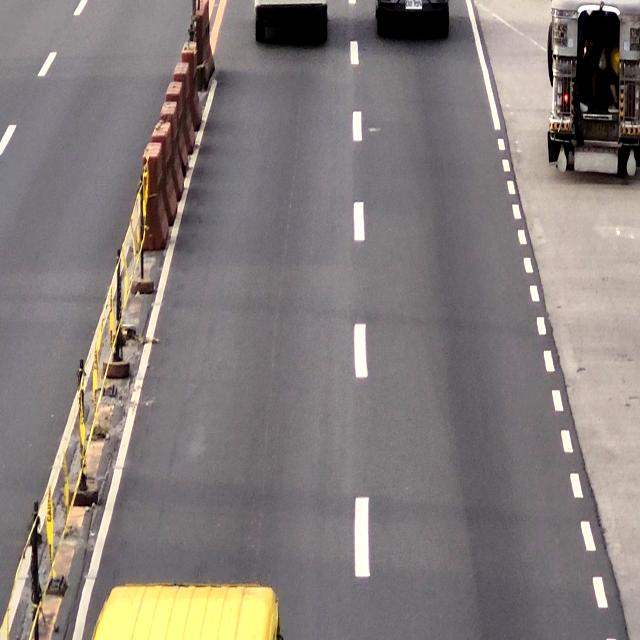Jeep: (540, 0, 640, 174)
